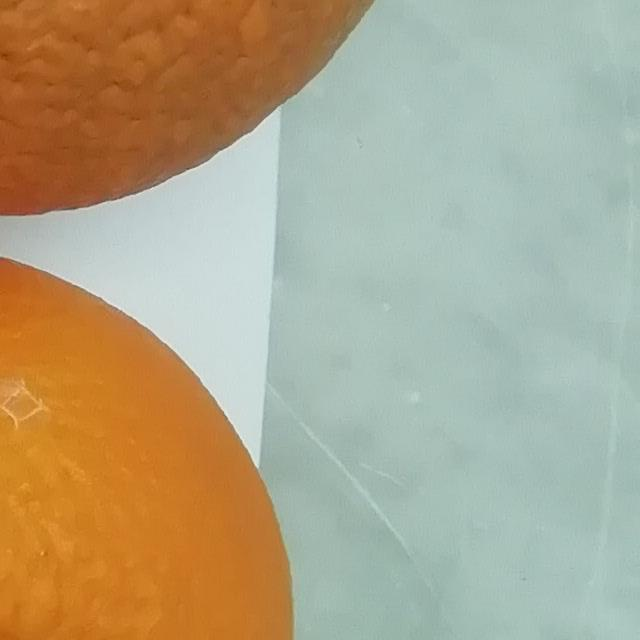orange: (0, 240, 308, 640), (0, 0, 478, 249)
